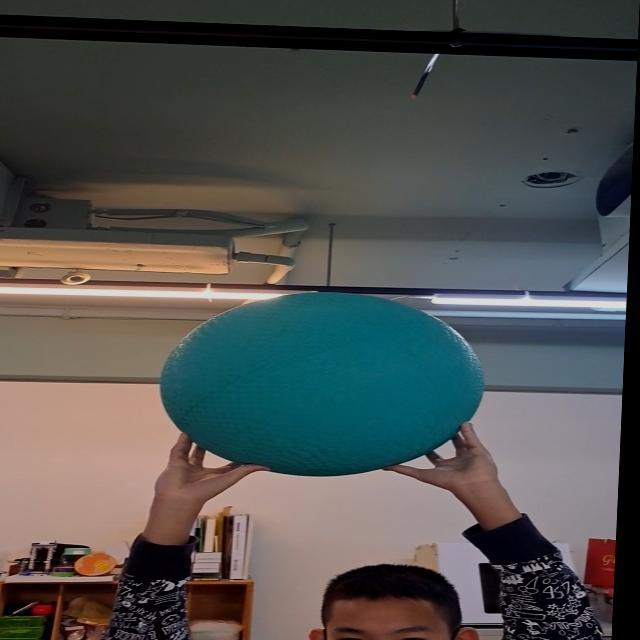ALGAE: (153, 291, 488, 477)
